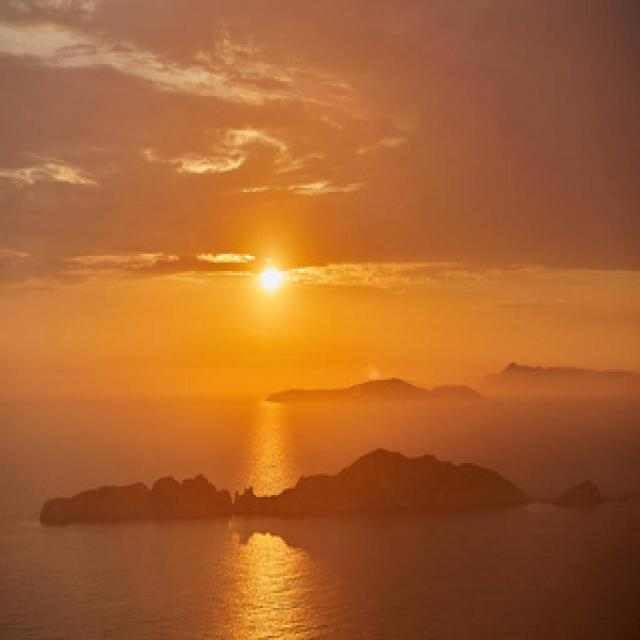island: (29, 437, 601, 539)
